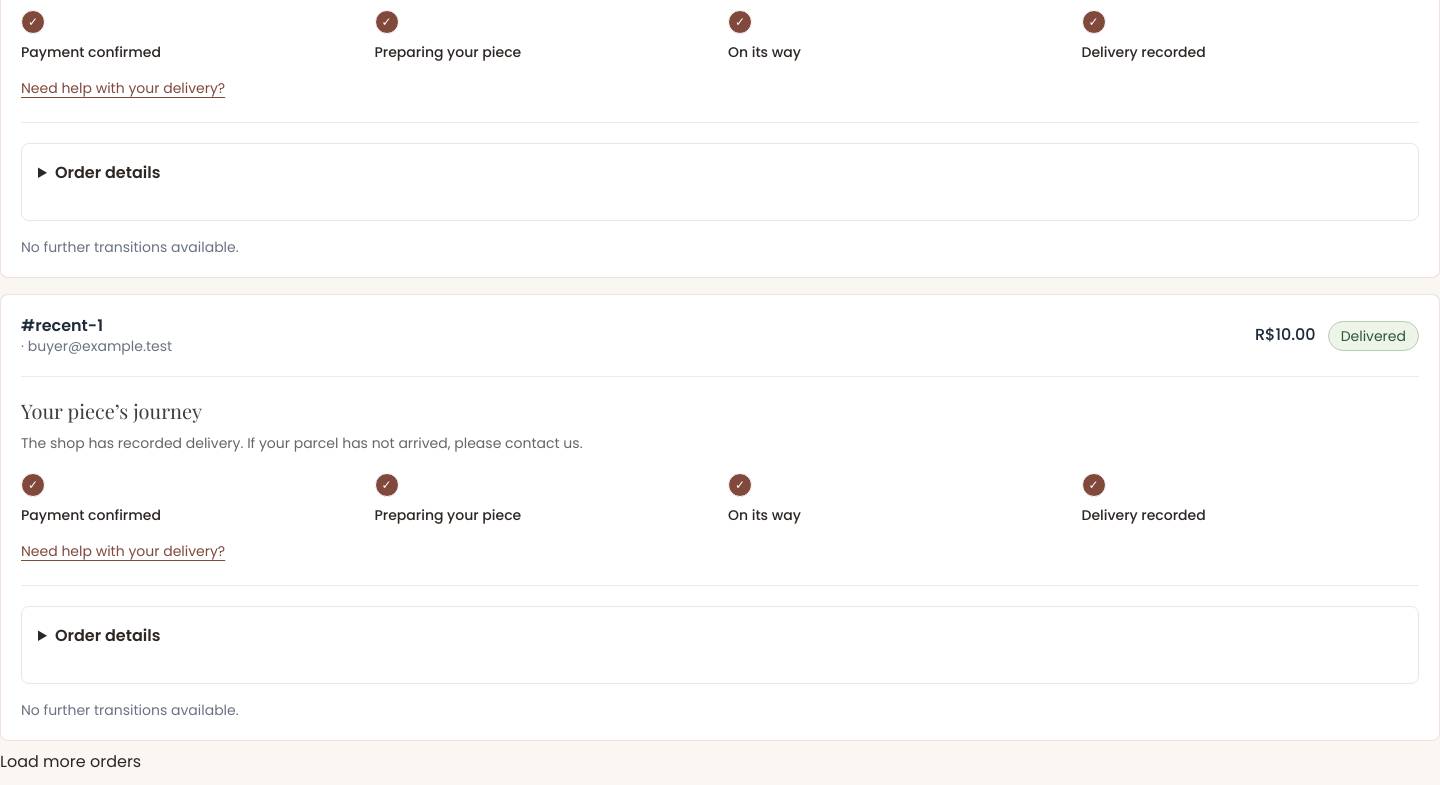
Test: Rendered order fulfillment › loads an older actionable 21st order on page two and fulfills it through the real service
(page scrolled)
Click the button "Load more orders". click: click(71, 763)
box: left=0, top=741, right=141, bottom=784
(page scrolled)
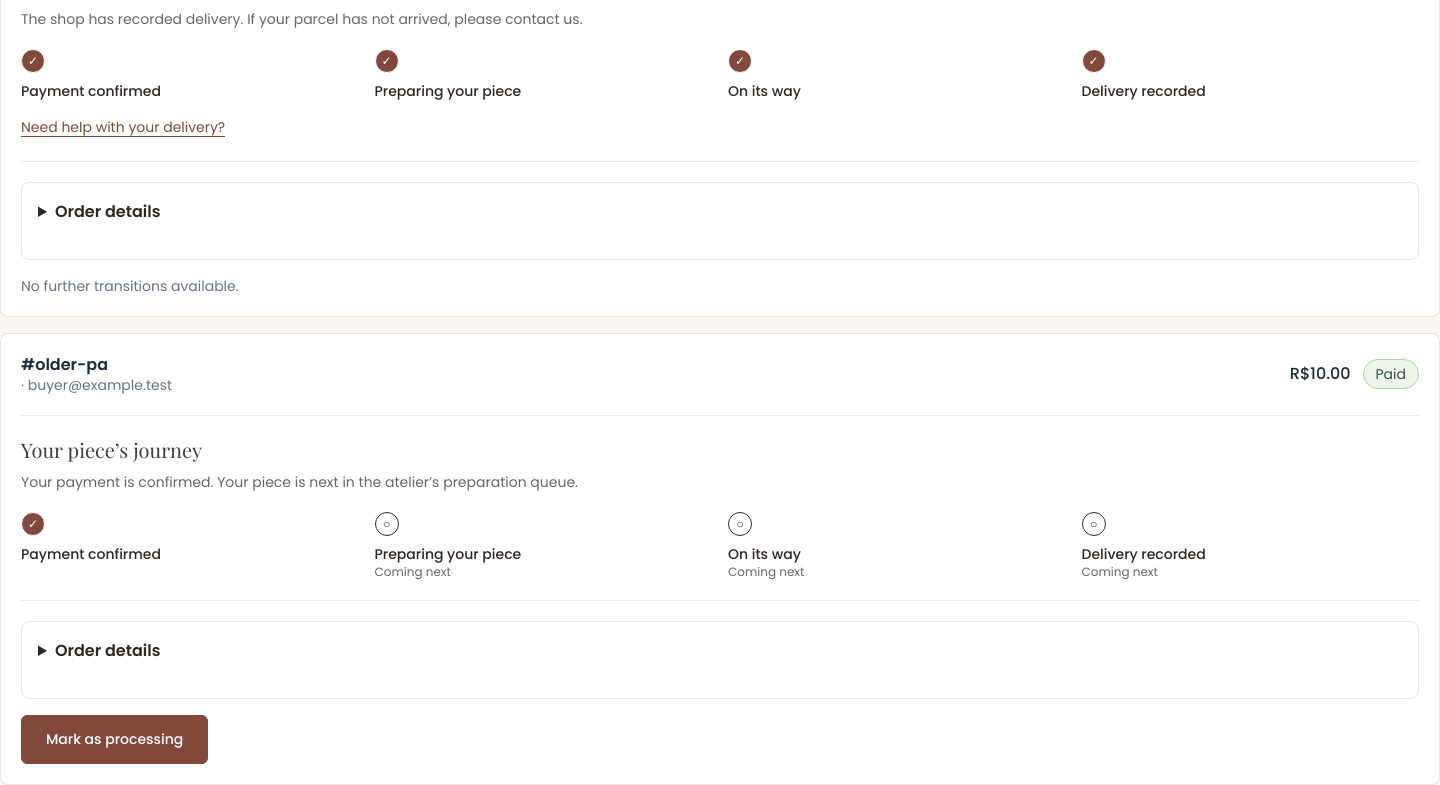
Click the button "Mark as processing". click: click(115, 740)
box: left=21, top=715, right=208, bottom=764
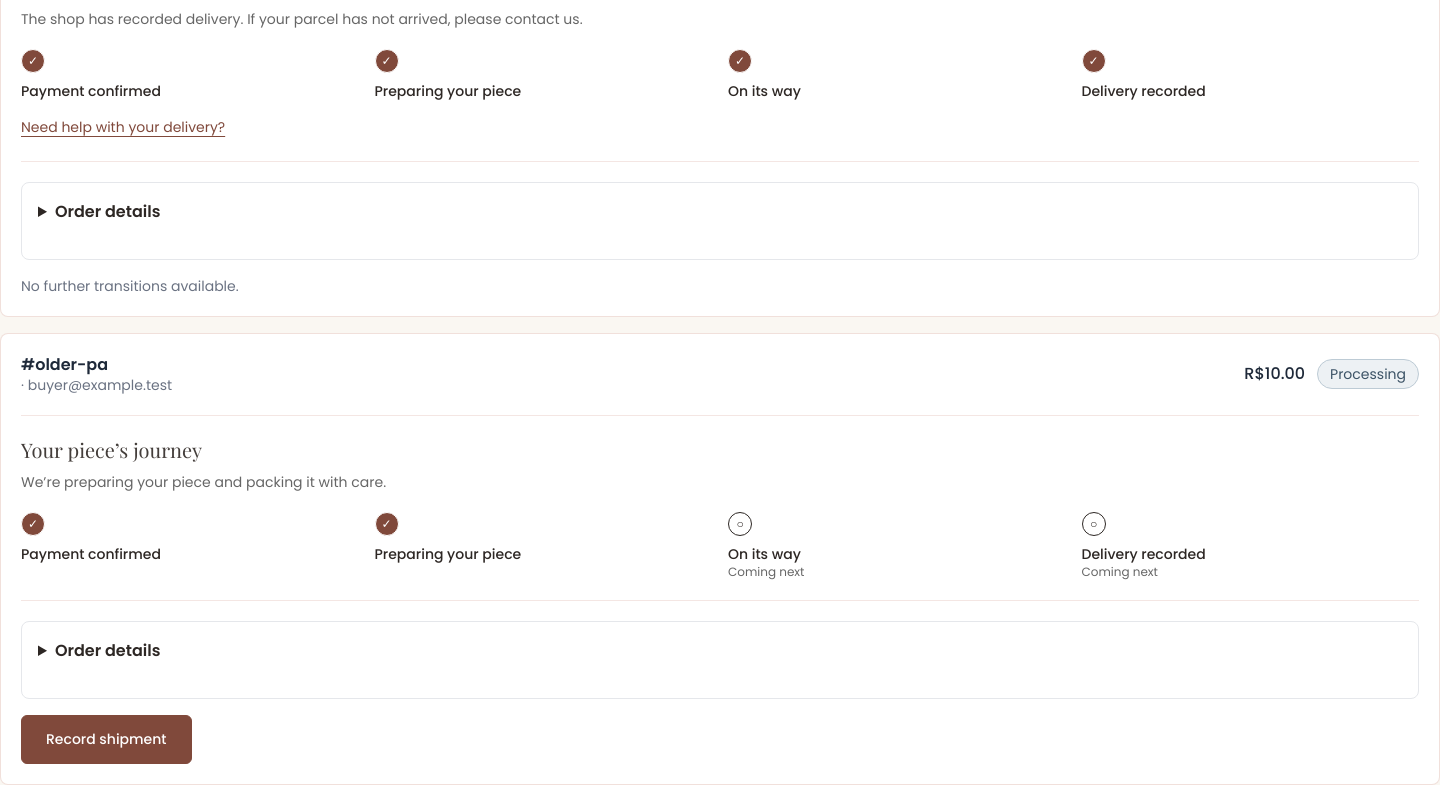
Now the element that starts with "#older-pa" shows "Record shipment", box left=21, top=715, right=192, bottom=764
